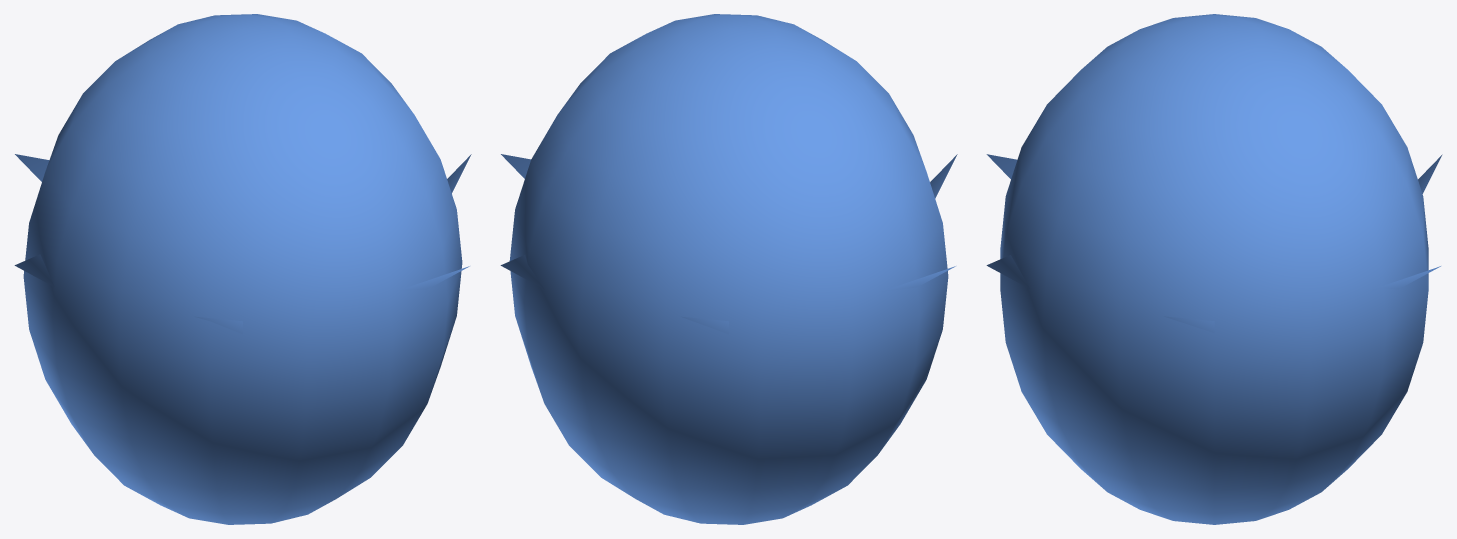
File: Vaporino_stage3.obj
3 renders of one model, left to right at view 1: azimuth 30°, elevation 25°; view 2: azimuth 150°, elevation 25°; view 3: azimuth 270°, elevation 25°, orthographic.
Bounding box in the file's own units: 3.12 × 3.12 × 2.7.
